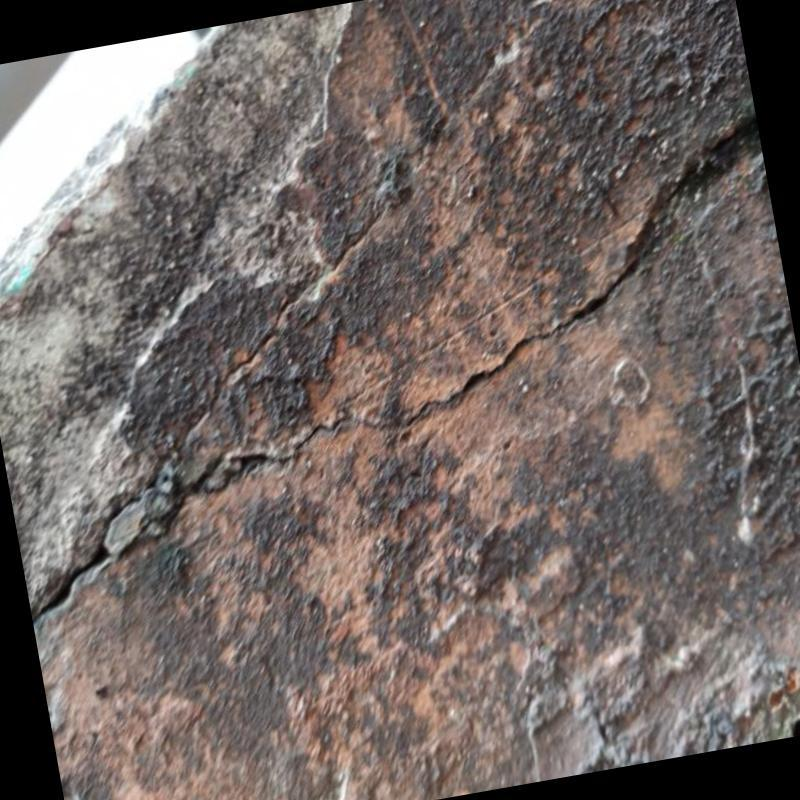pothole: (32, 119, 764, 631)
